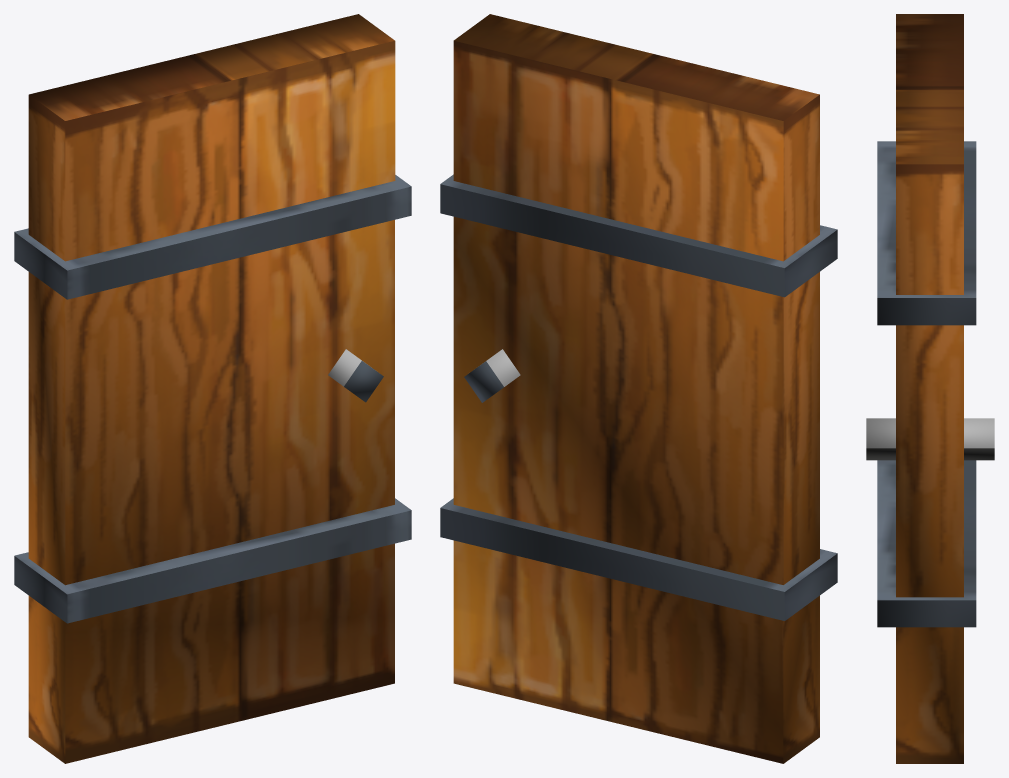
The model's file is building_door_01.fbx.
The picture shows the model from 3 angles, left to right: view 1: azimuth 30°, elevation 25°; view 2: azimuth 150°, elevation 25°; view 3: azimuth 270°, elevation 25°; orthographic projection. The views are drawn at different scales.
Visible parts, largest first — view 1: door_01; view 2: door_01; view 3: door_01.
Part boxes in pixels (<box>): door_01: <box>14,14,411,763</box>; door_01: <box>440,14,837,763</box>; door_01: <box>866,14,994,763</box>.
Size of the model in its own units: 0.5084 by 0.9063 by 0.1759.
